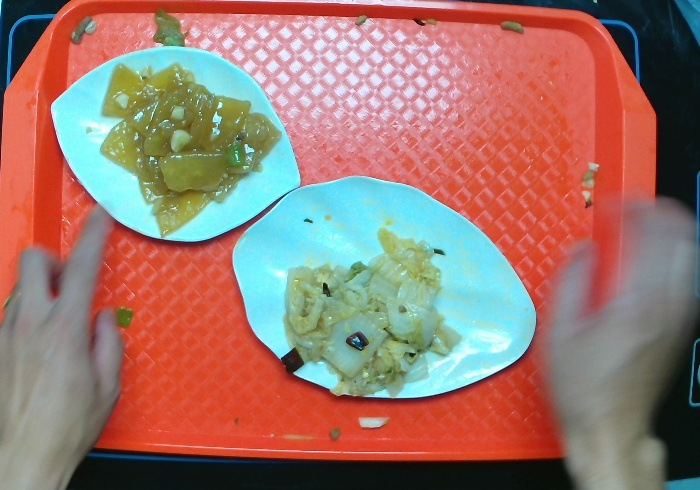RJxy-Bai_Ye_Pan: (227, 178, 549, 411)
RJxy-Da_Du_Pan: (52, 47, 303, 245)
